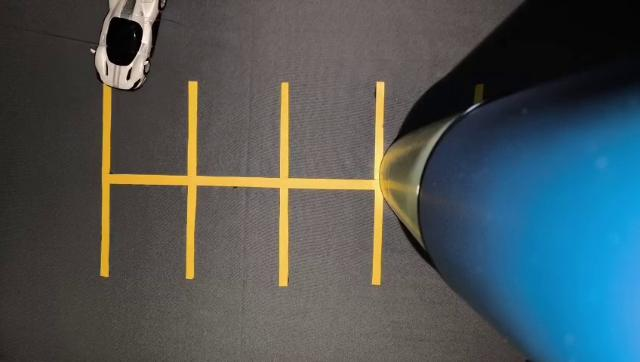toy_car: (71, 0, 193, 109)
